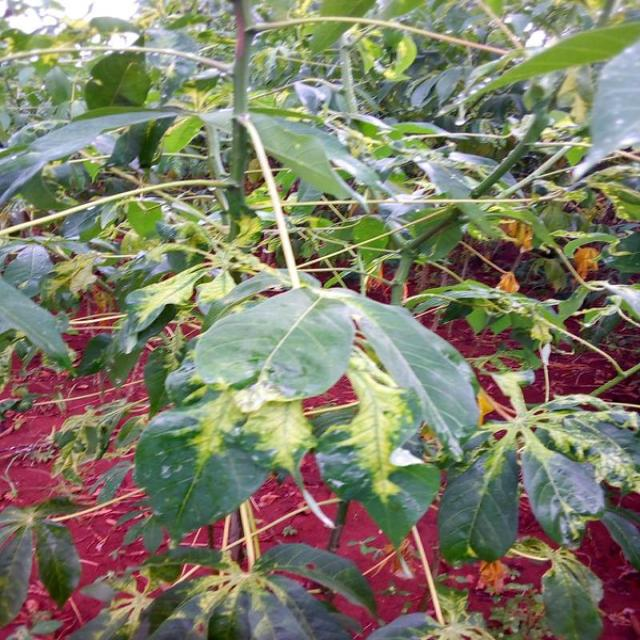cassava leaf: (193, 284, 354, 403), (437, 441, 519, 566)
